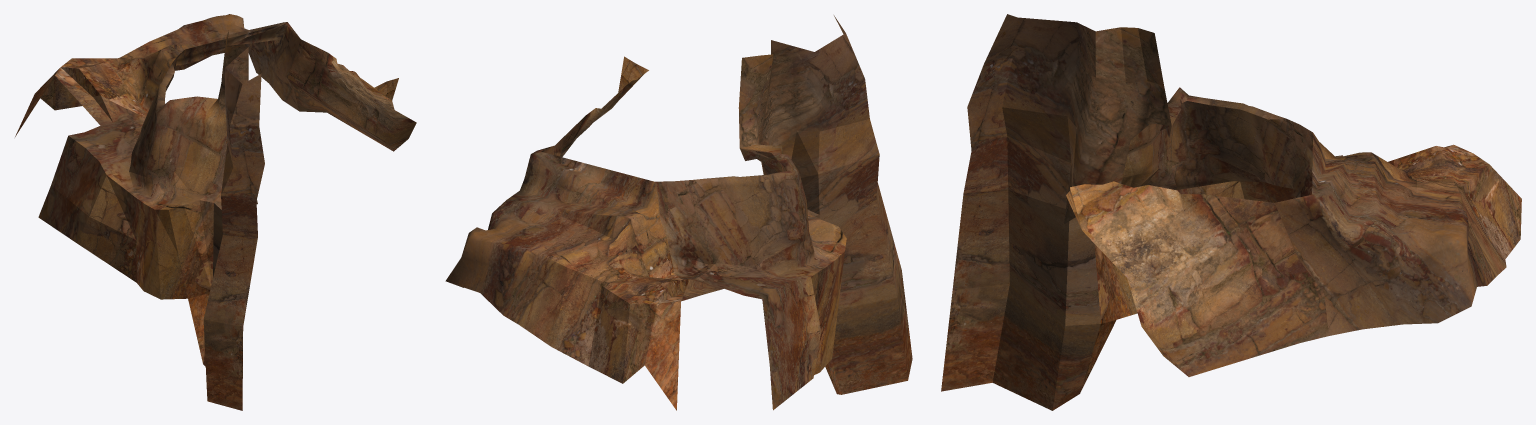
Rendered from Ground020.fbx.
3 views of the same model, side by side, from view 1: azimuth 30°, elevation 25°; view 2: azimuth 150°, elevation 25°; view 3: azimuth 270°, elevation 25° (orthographic). The views are drawn at different scales.
Parts seen in each view (by area): view 1: 立方体.004; view 2: 立方体.004; view 3: 立方体.004.
Boxes of the visible parts, x1,y1,x2,y2 form: 立方体.004: (15, 14, 416, 410); 立方体.004: (445, 15, 912, 410); 立方体.004: (941, 14, 1521, 410).
Size of the model in its own units: 49.26 by 50.58 by 64.52.
